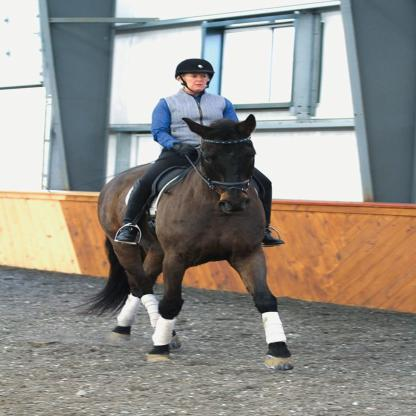Person: (152, 58, 245, 171)
